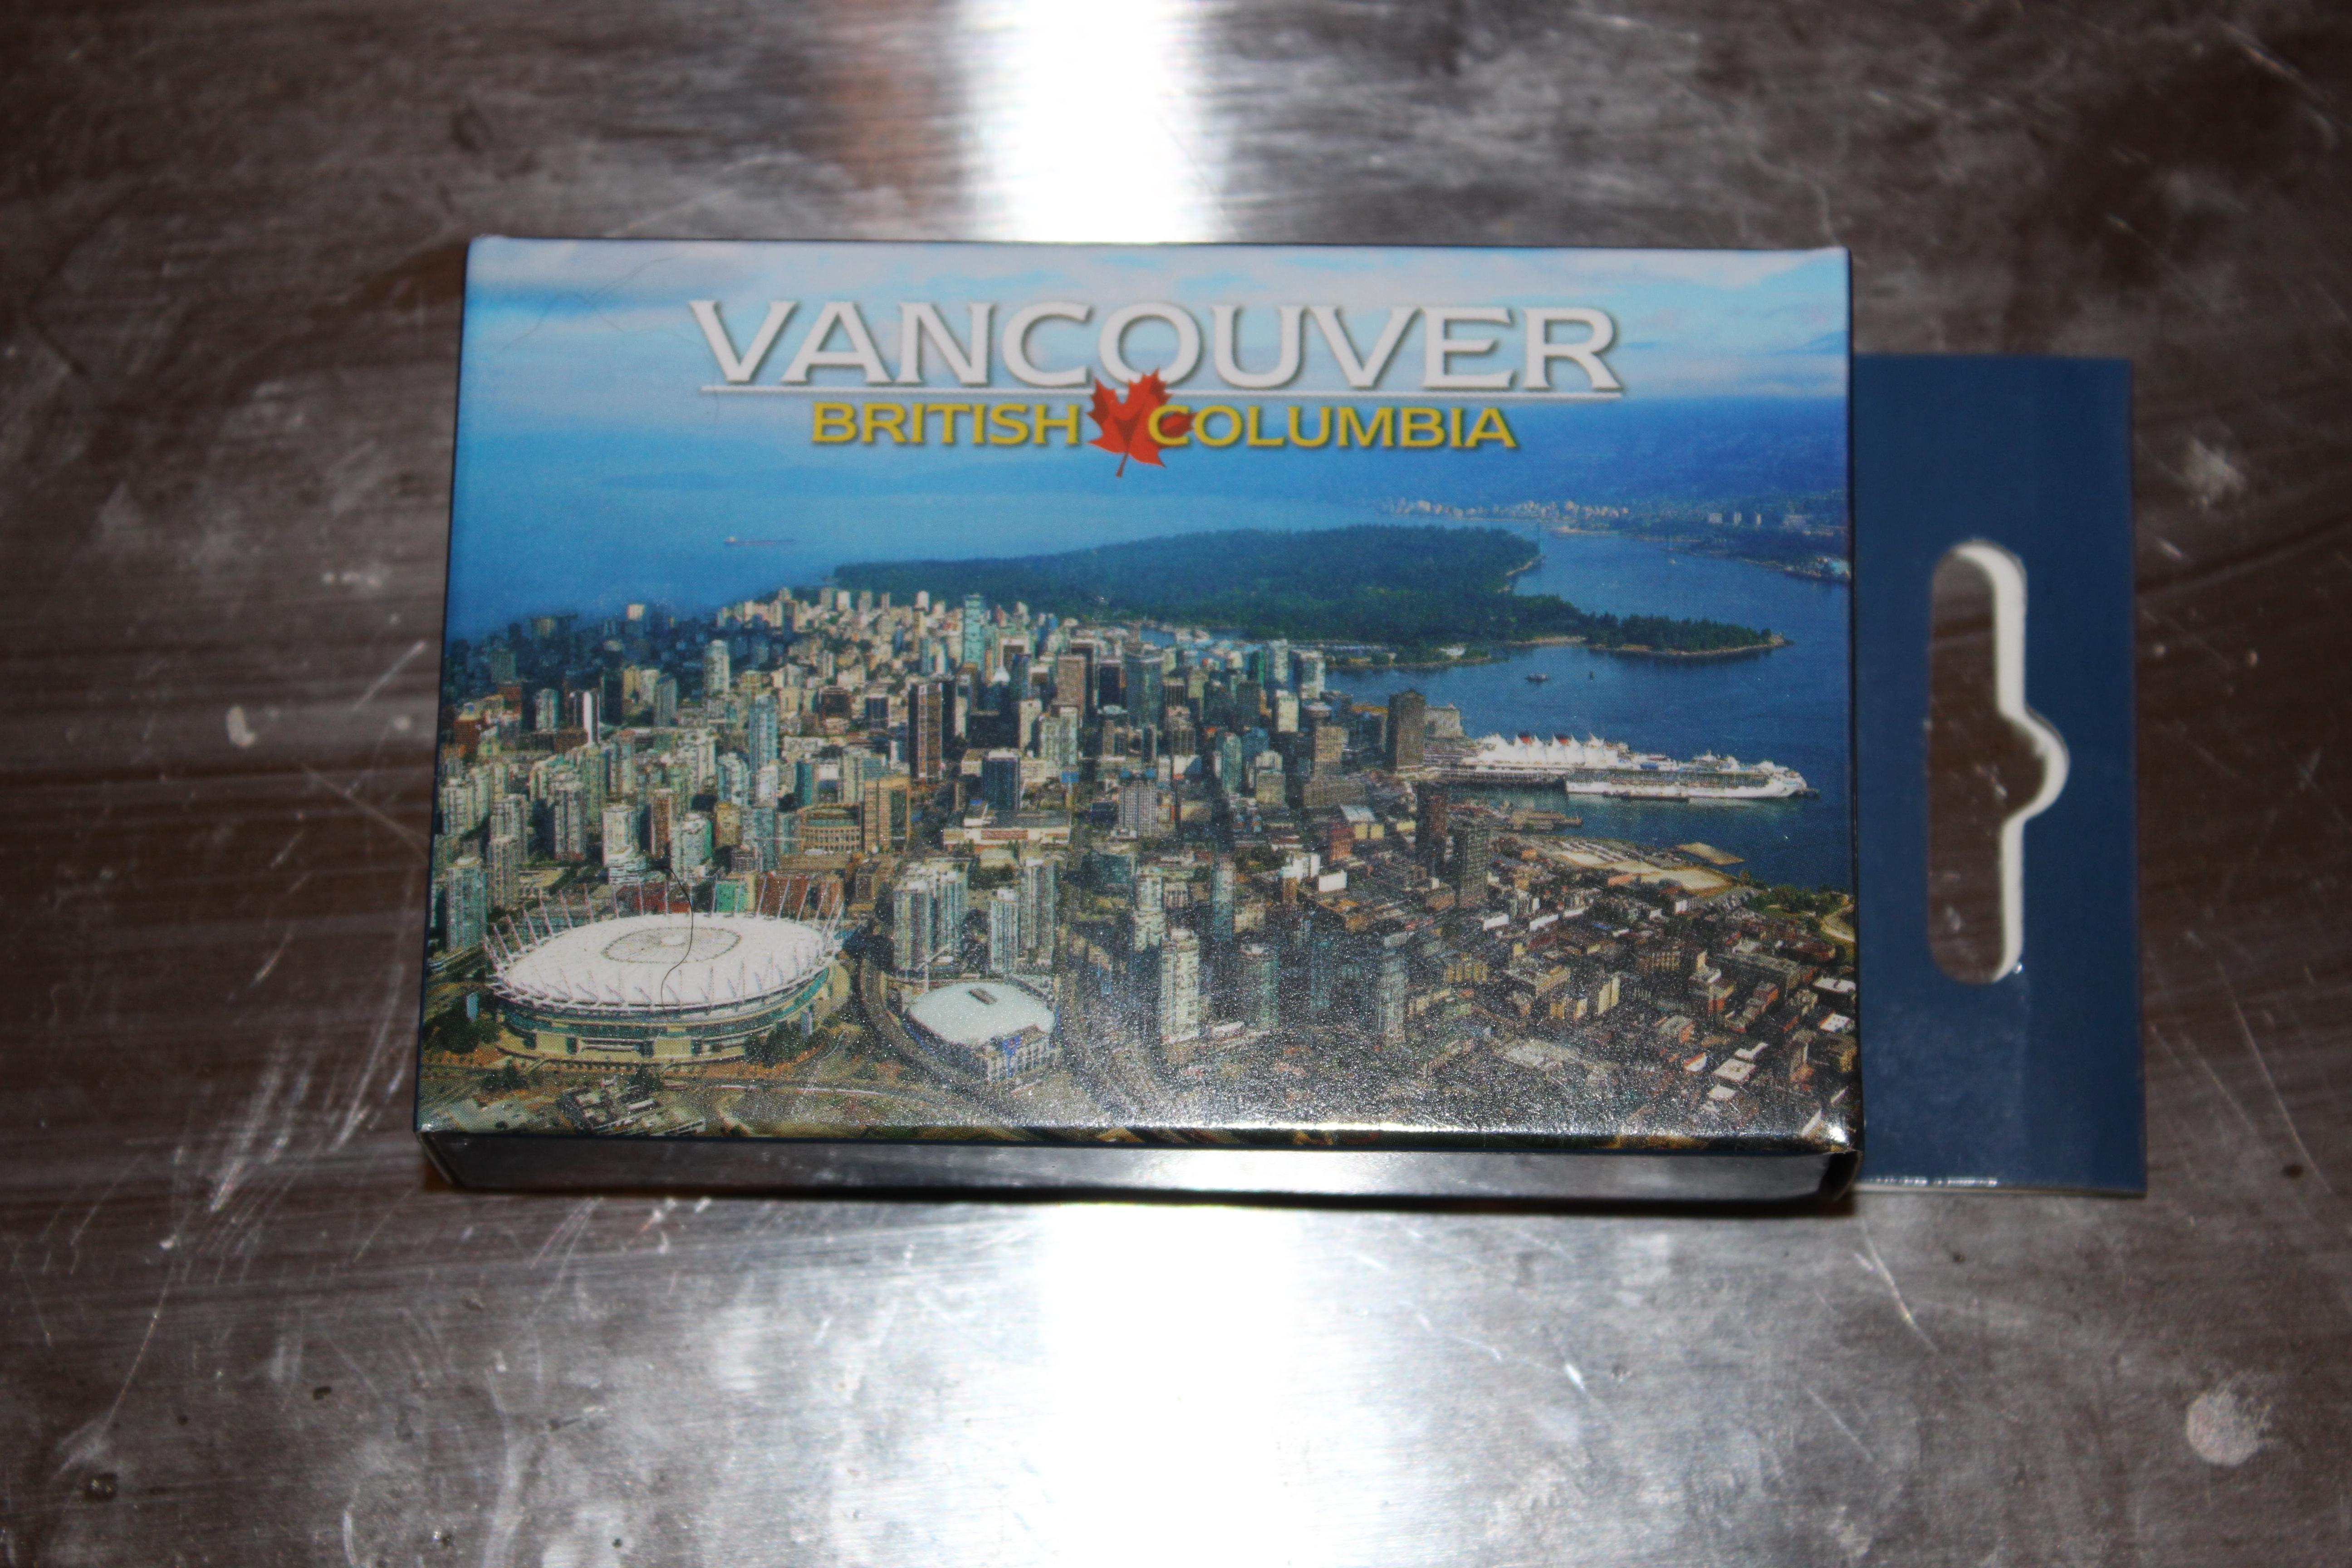vancouverCards: (345, 201, 2187, 1244)
